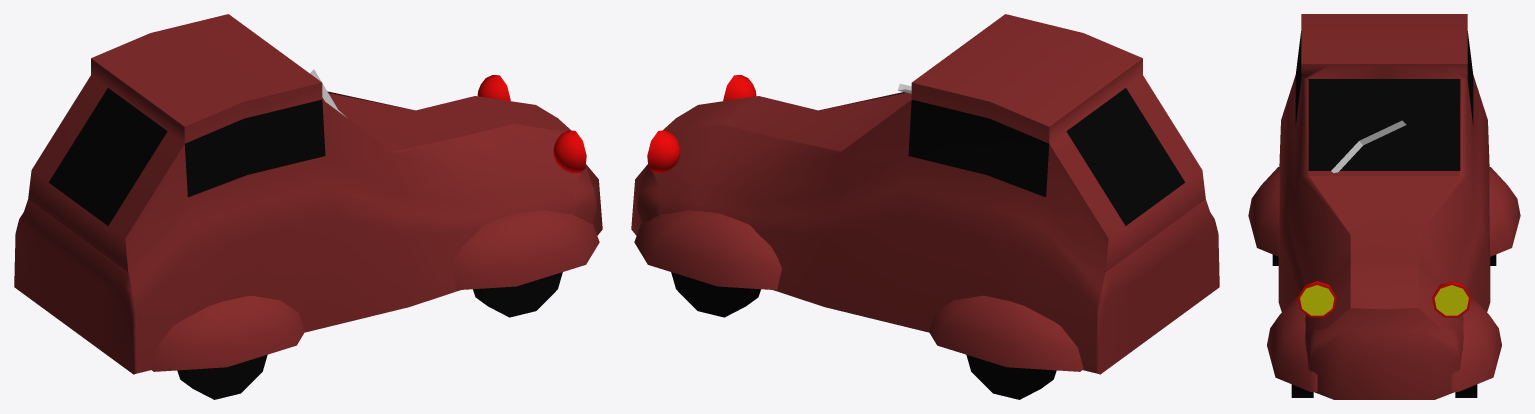
Rendered from SM_2x3_Car.fbx.
3 renders of one model, left to right at view 1: azimuth 30°, elevation 25°; view 2: azimuth 150°, elevation 25°; view 3: azimuth 270°, elevation 25°, orthographic. The views are drawn at different scales.
Visible parts, largest first — view 1: pCylinder21; view 2: pCylinder21; view 3: pCylinder21.
Boxes of the visible parts, bbox=[...] form: pCylinder21: bbox=[14, 14, 602, 399]; pCylinder21: bbox=[631, 14, 1219, 399]; pCylinder21: bbox=[1248, 14, 1520, 399].
Bounding box in the file's own units: 269 × 142 × 143.
